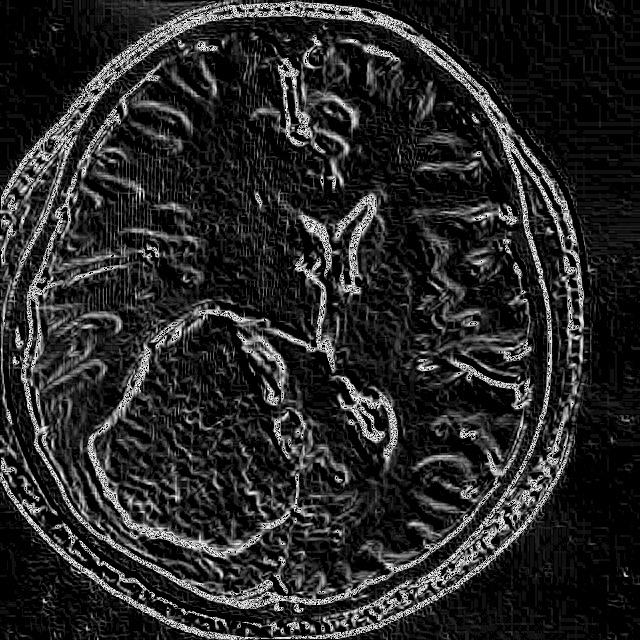Brain-Tumor: (79, 288, 319, 576)
